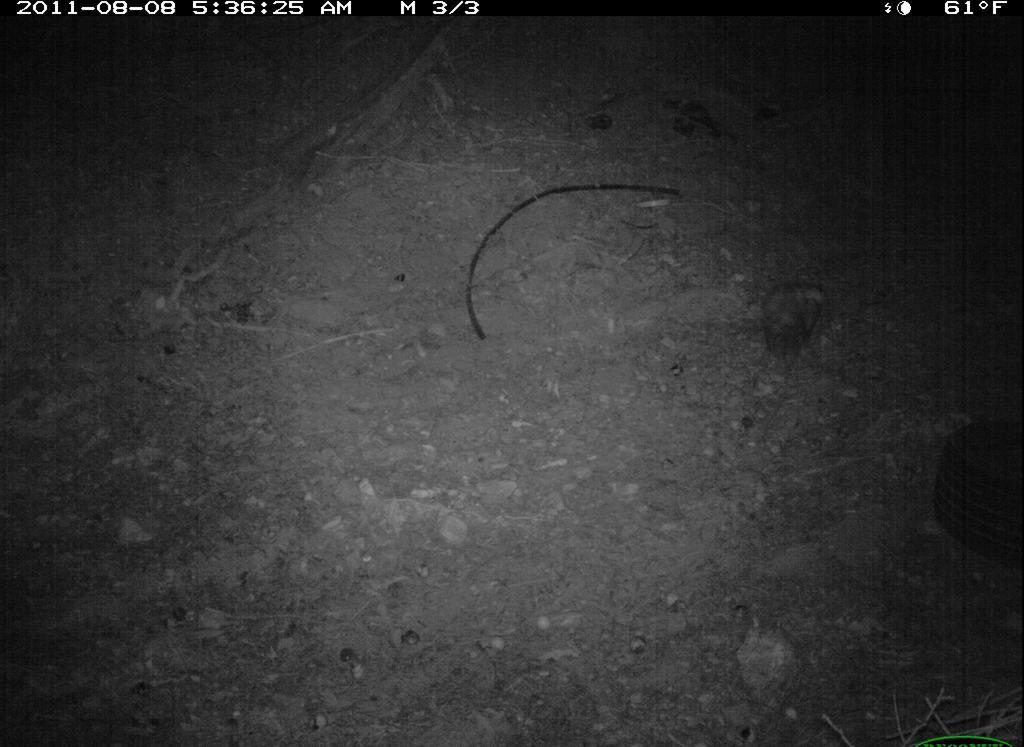opossum: (745, 273, 840, 391)
